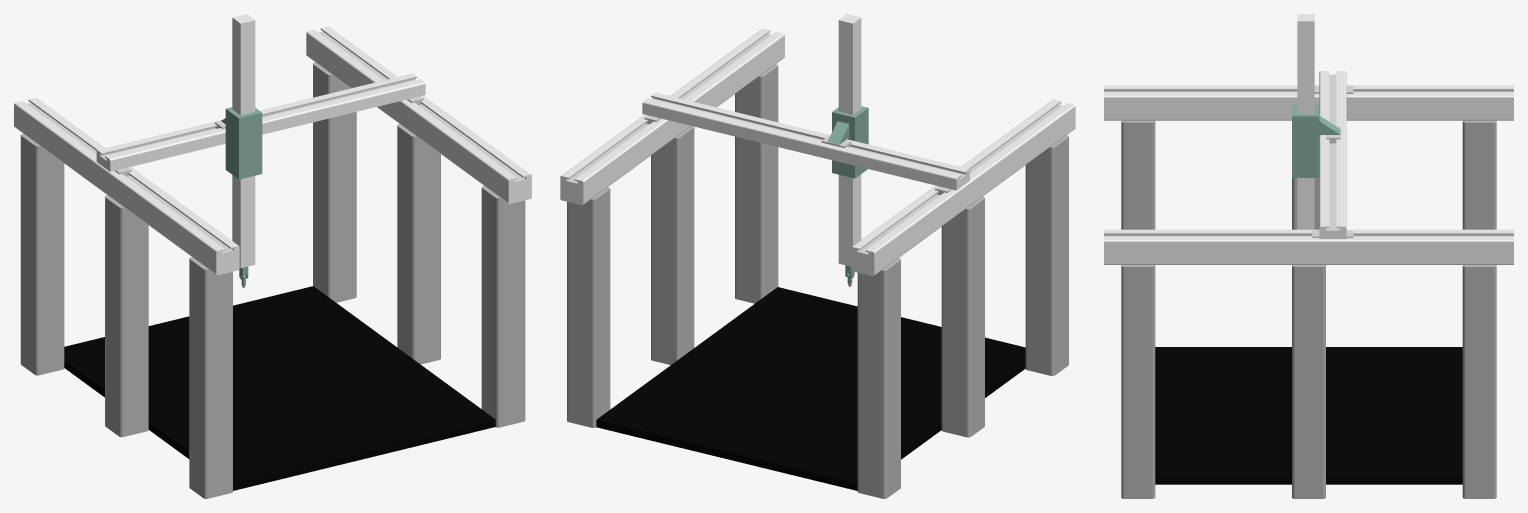
File: cmm.glb
3 renders of one model, left to right at view 1: azimuth 30°, elevation 25°; view 2: azimuth 150°, elevation 25°; view 3: azimuth 270°, elevation 25°, orthographic.
Parts seen in each view (by area): view 1: Bridge CMM Object; view 2: Bridge CMM Object; view 3: Bridge CMM Object.
Boxes of the visible parts, x1,y1,x2,y2 form: Bridge CMM Object: (14,14,531,498); Bridge CMM Object: (560,14,1075,498); Bridge CMM Object: (1104,14,1513,498).
Bounding box in the file's own units: 22 × 25 × 24.
